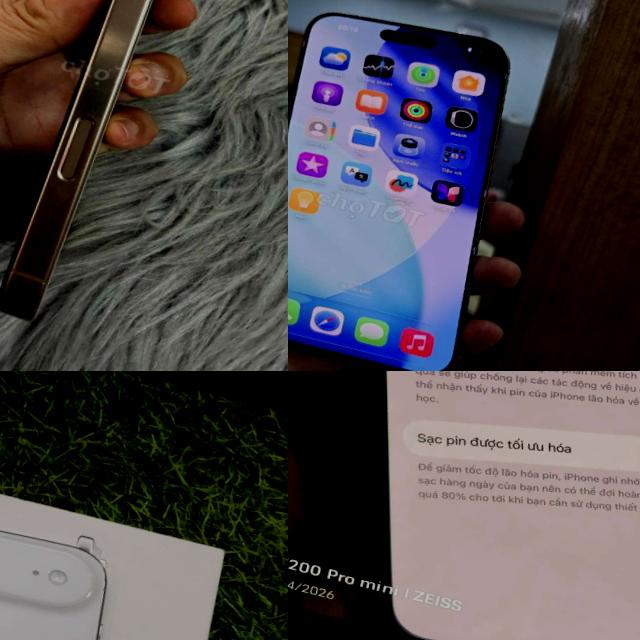gen_12_13: (288, 371, 640, 640)
gen_16: (288, 0, 553, 371), (0, 0, 151, 319)
gen_17: (0, 492, 154, 640)
